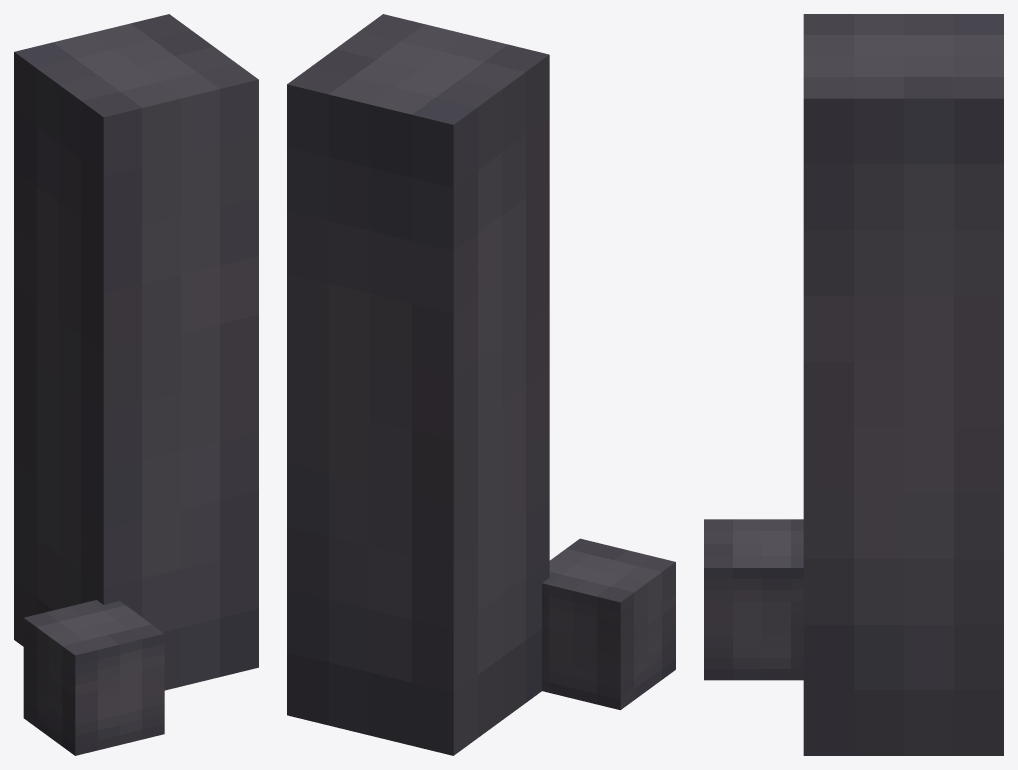
Rendered from ilmenite_crystal_two.obj.
3 renders of one model, left to right at view 1: azimuth 30°, elevation 25°; view 2: azimuth 150°, elevation 25°; view 3: azimuth 270°, elevation 25°, orthographic. The views are drawn at different scales.
Parts seen in each view (by area): view 1: Crystal5_Cube.008; view 2: Crystal5_Cube.008; view 3: Crystal5_Cube.008.
Boxes of the visible parts, left/top/right/bottom form: Crystal5_Cube.008: left=14, top=14, right=258, bottom=755; Crystal5_Cube.008: left=287, top=14, right=675, bottom=755; Crystal5_Cube.008: left=704, top=14, right=1003, bottom=755.
Bounding box in the file's own units: 0.1355 × 0.3335 × 0.1379.
